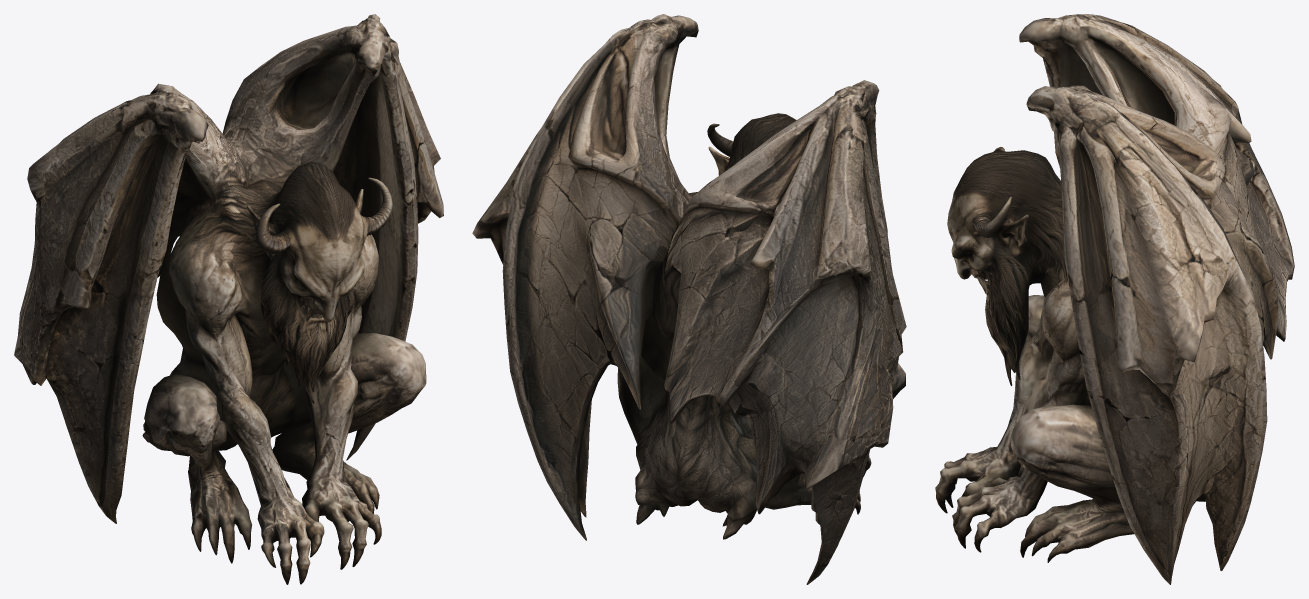
The model's file is Gargola1.glb.
3 renders of one model, left to right at view 1: azimuth 30°, elevation 25°; view 2: azimuth 150°, elevation 25°; view 3: azimuth 270°, elevation 25°, orthographic. The views are drawn at different scales.
Visible parts, largest first — view 1: tripo_node_3b6ebfa7-41c4-4765-b54d-8d2813515b96; view 2: tripo_node_3b6ebfa7-41c4-4765-b54d-8d2813515b96; view 3: tripo_node_3b6ebfa7-41c4-4765-b54d-8d2813515b96.
Part boxes in pixels (left/top/right/bottom): tripo_node_3b6ebfa7-41c4-4765-b54d-8d2813515b96: left=14, top=14, right=443, bottom=584; tripo_node_3b6ebfa7-41c4-4765-b54d-8d2813515b96: left=472, top=14, right=906, bottom=584; tripo_node_3b6ebfa7-41c4-4765-b54d-8d2813515b96: left=935, top=14, right=1294, bottom=584.
Size of the model in its own units: 0.8931 by 0.9995 by 0.6587.
Materials: 1 (1 with a texture image).
